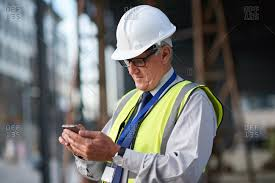Person_wearing_helmet: (105, 3, 178, 75)
